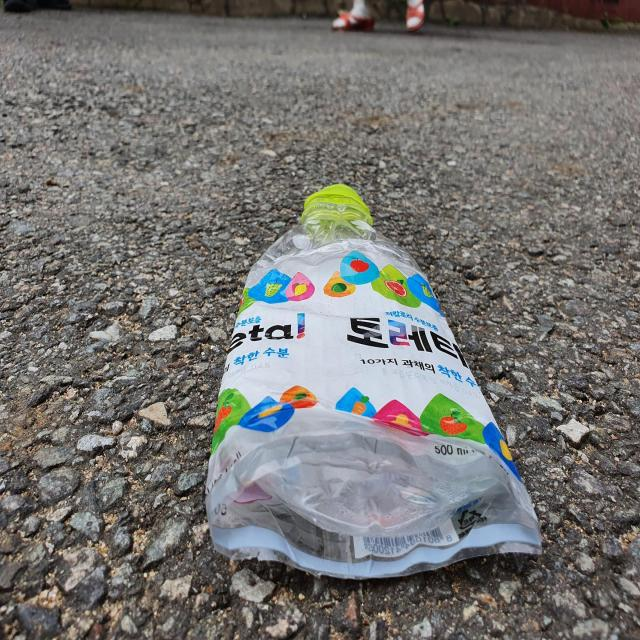plastic: (206, 184, 543, 579)
